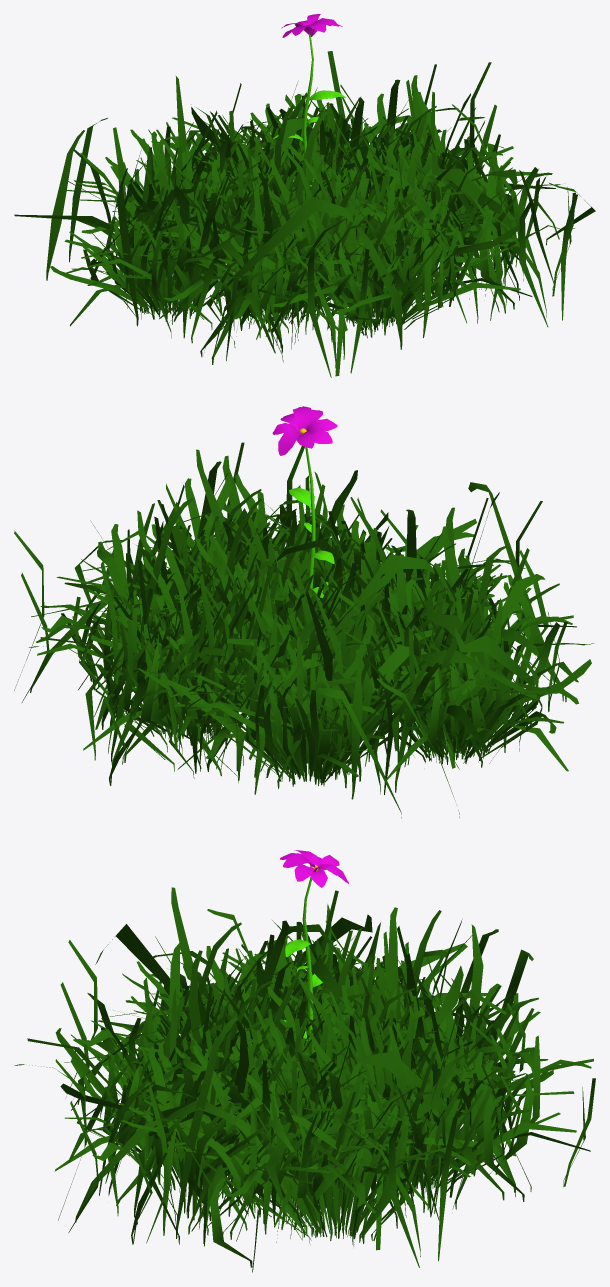
Rendered from Player.fbx.
3 renders of one model, top to bottom at view 1: azimuth 30°, elevation 25°; view 2: azimuth 150°, elevation 25°; view 3: azimuth 270°, elevation 25°, orthographic. The views are drawn at different scales.
Parts seen in each view (by area): view 1: Flower.002; view 2: Flower.002; view 3: Flower.002.
Boxes of the visible parts, left/top/right/bottom form: Flower.002: left=14, top=14, right=595, bottom=377; Flower.002: left=14, top=406, right=593, bottom=818; Flower.002: left=14, top=850, right=595, bottom=1272.
Bounding box in the file's own units: 172 × 91.14 × 158.
